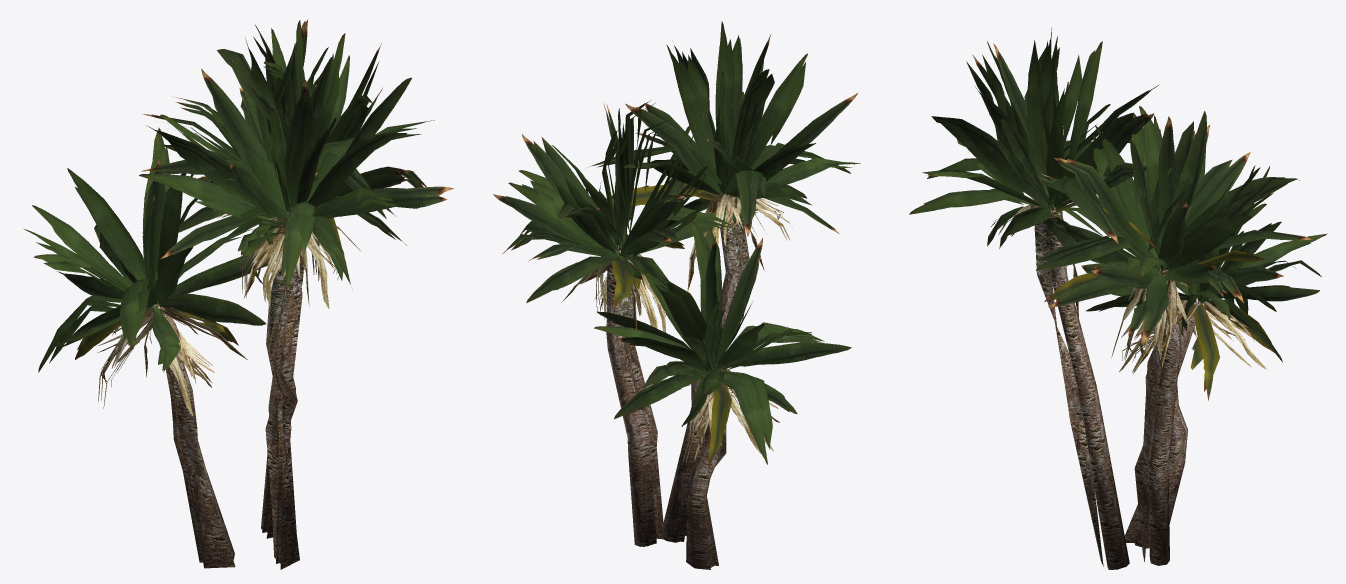
Rendered from MK4_Yucca2.DAE.
3 views of the same model, side by side, from view 1: azimuth 30°, elevation 25°; view 2: azimuth 150°, elevation 25°; view 3: azimuth 270°, elevation 25° (orthographic). The views are drawn at different scales.
Parts seen in each view (by area): view 1: MK4_Yucca200, MK4_Yucca50, MK4_Yucca100; view 2: MK4_Yucca200, MK4_Yucca100, MK4_Yucca50; view 3: MK4_Yucca200, MK4_Yucca50, MK4_Yucca100.
Part boxes in pixels (<box>): MK4_Yucca200: <box>24,19,453,563</box>; MK4_Yucca50: <box>43,42,447,569</box>; MK4_Yucca100: <box>36,21,442,563</box>; MK4_Yucca200: <box>493,21,858,568</box>; MK4_Yucca100: <box>506,39,852,569</box>; MK4_Yucca50: <box>521,35,860,565</box>; MK4_Yucca200: <box>909,27,1326,569</box>; MK4_Yucca50: <box>922,40,1295,566</box>; MK4_Yucca100: <box>923,41,1310,543</box>.
Size of what is drawn, in the model's own units: 26.14 by 27.24 by 37.95.
